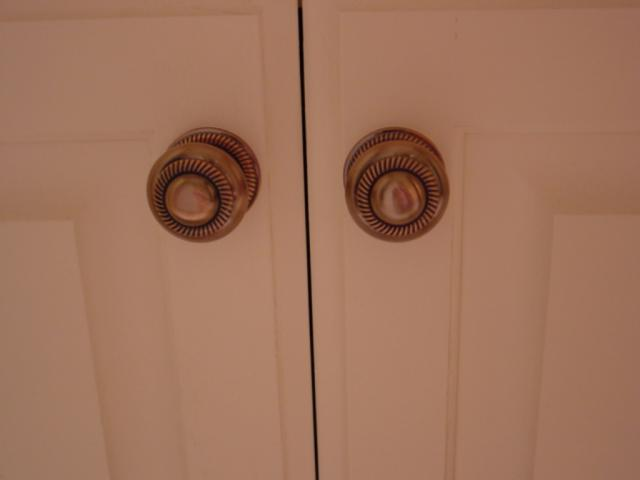Door-handle: (144, 125, 263, 248), (342, 127, 450, 247)
